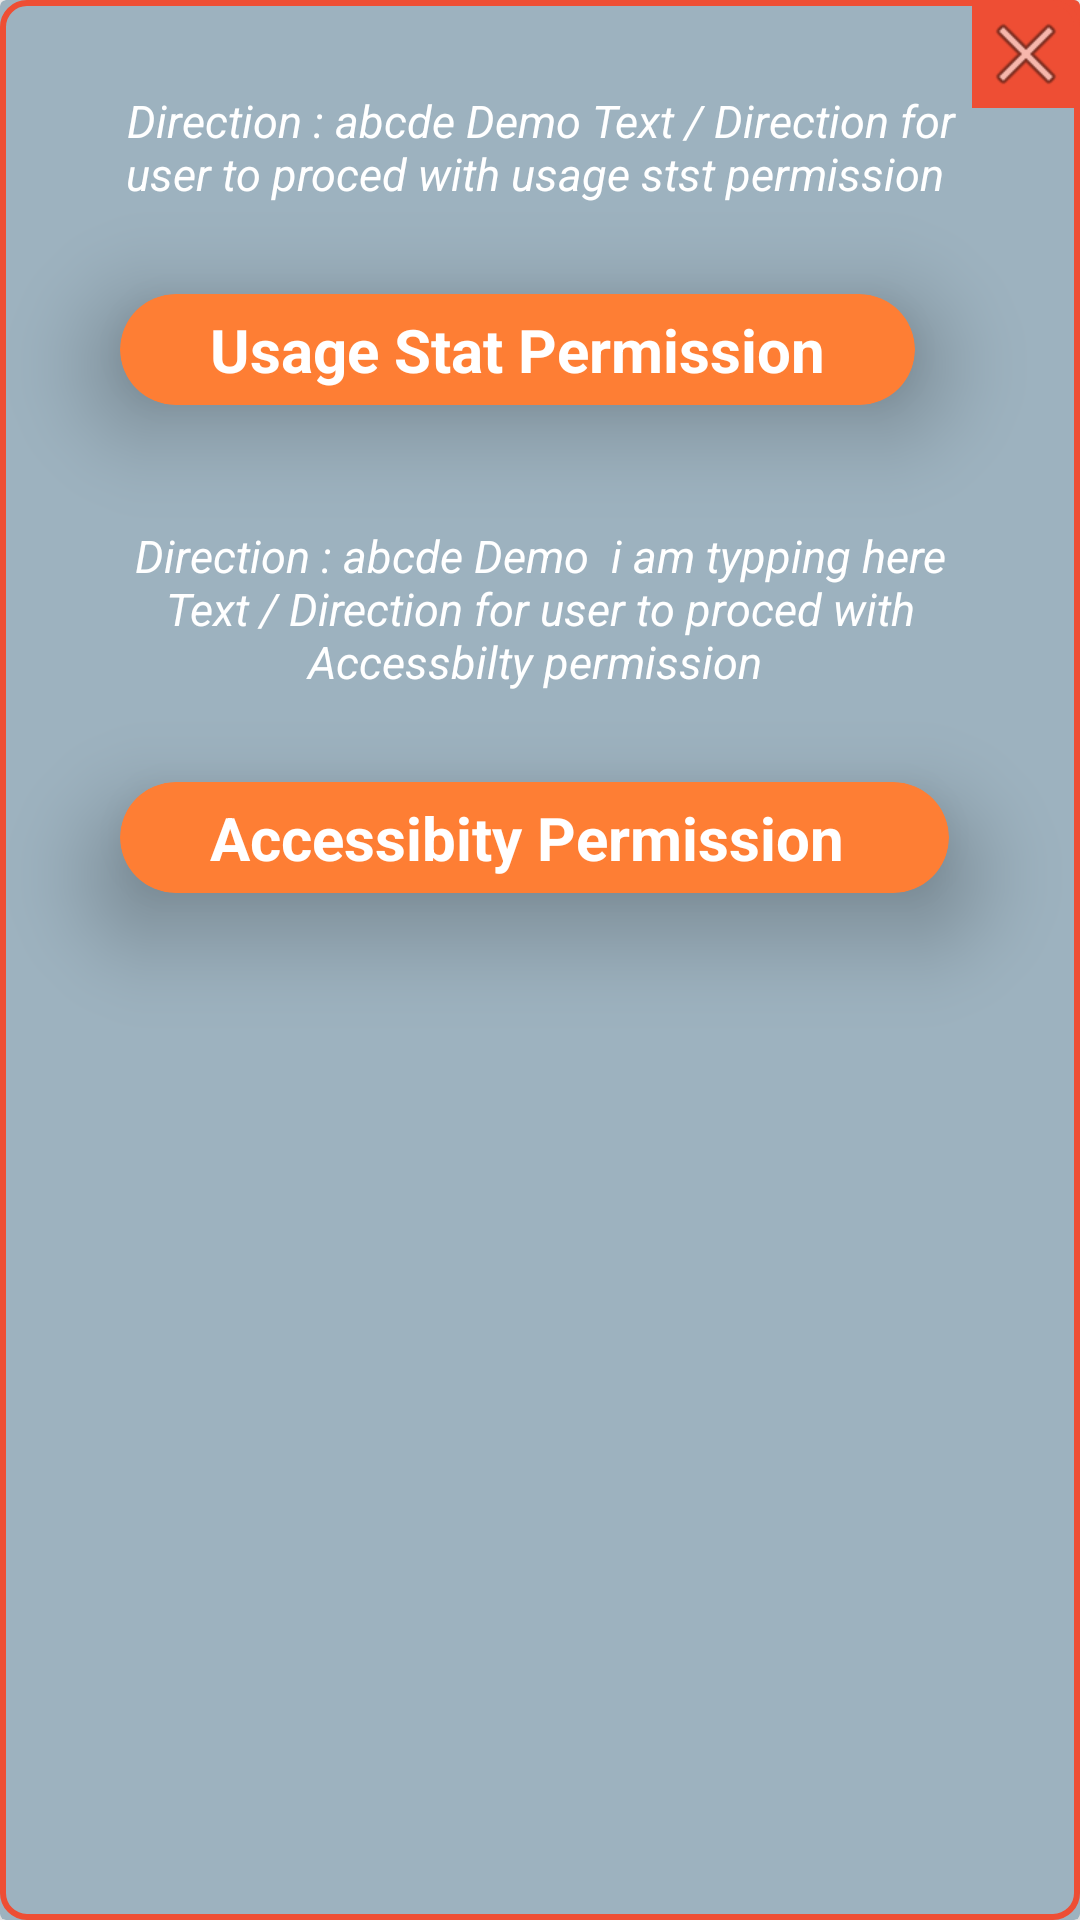

Point at icon controls on the screen. Image size 1080px x 1920px, points as (x,y).
close clear cancel: (1026,54)
